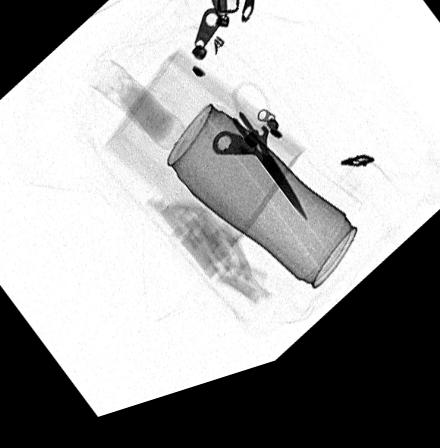Scissors: (196, 94, 307, 239)
